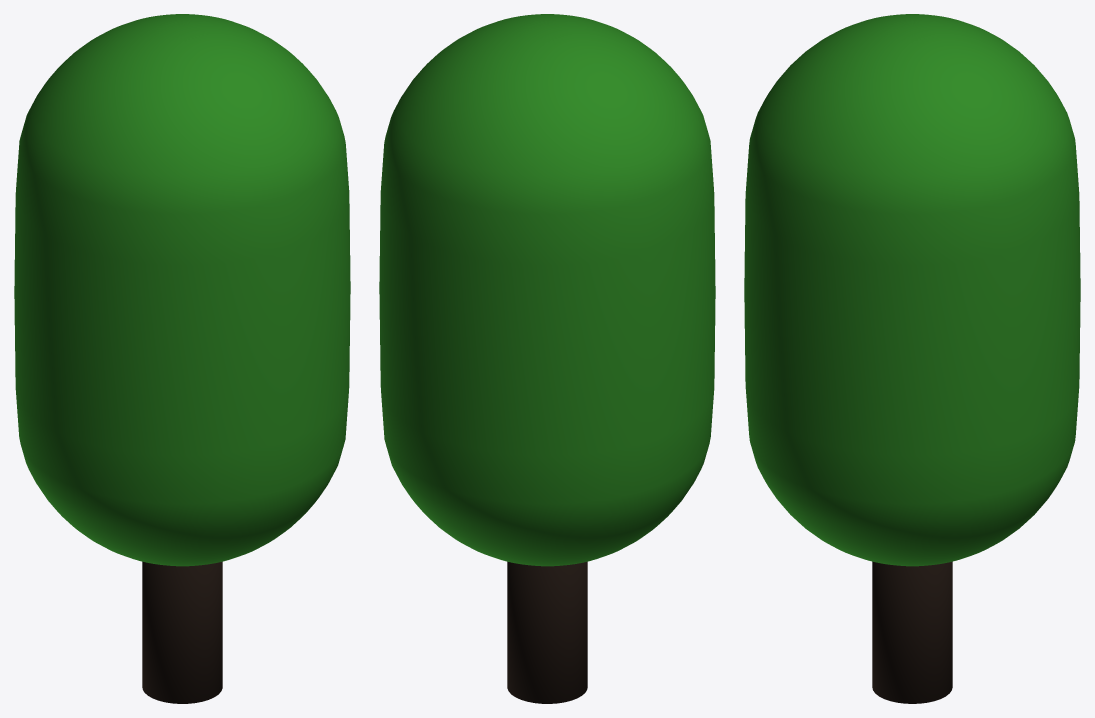
3 views of the same model, side by side, from view 1: azimuth 30°, elevation 25°; view 2: azimuth 150°, elevation 25°; view 3: azimuth 270°, elevation 25° (orthographic).
Parts seen in each view (by area): view 1: Sphere.018, wood.001; view 2: Sphere.018, wood.001; view 3: Sphere.018, wood.001.
Part boxes in pixels (x1=…): Sphere.018: x1=14, y1=14, x2=350, y2=566; wood.001: x1=142, y1=561, x2=222, y2=703; Sphere.018: x1=379, y1=14, x2=715, y2=566; wood.001: x1=507, y1=561, x2=587, y2=703; Sphere.018: x1=744, y1=14, x2=1080, y2=566; wood.001: x1=872, y1=561, x2=952, y2=703.
Bounding box in the file's own units: 1.7 × 3.67 × 1.7.
